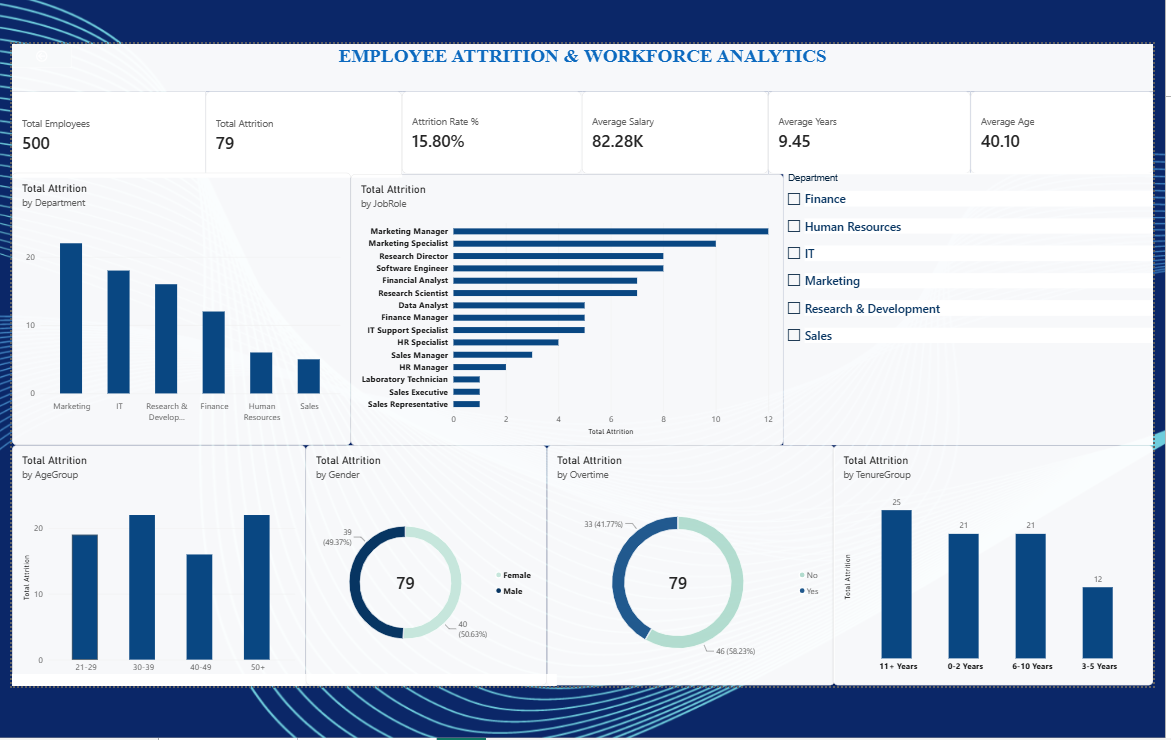

The page's visual inventory and layout, read from the dashboard file:
{"tool":"powerbi","page":{"name":"HR Overview","canvas":[1920,1080],"ordinal":0},"visuals":[{"type":"cardVisual","fields":{"Data":["HR_Data.Total Employees"]},"box":[0,79.9,326,145.1],"z":0},{"type":"cardVisual","fields":{"Data":["HR_Data.Total Attrition"]},"box":[326,79.9,330.2,145.1],"z":1000},{"type":"cardVisual","fields":{"Data":["HR_Data.Attrition Rate %"]},"box":[656.3,79.9,302.9,138.8],"z":2000},{"type":"cardVisual","fields":{"Data":["HR_Data.Average Salary"]},"box":[959.2,79.9,313.4,138.8],"z":3000},{"type":"cardVisual","fields":{"Data":["HR_Data.Average Age"]},"box":[1613.3,79.9,307.1,138.8],"z":4000},{"type":"cardVisual","fields":{"Data":["HR_Data.Average Years"]},"box":[1272.6,79.9,340.8,138.8],"z":5000},{"type":"clusteredColumnChart","fields":{"Category":["HR_Data.Department"],"Y":["HR_Data.Total Attrition"]},"box":[0,216.7,570,458.5],"z":6000},{"type":"barChart","fields":{"Category":["HR_Data.JobRole"],"Y":["HR_Data.Total Attrition"]},"box":[570,218.8,727.8,456.4],"z":7000},{"type":"donutChart","fields":{"Category":["HR_Data.Overtime"],"Y":["HR_Data.Total Attrition"]},"box":[900.3,675.2,483.8,403.9],"z":8000},{"type":"columnChart","fields":{"Category":["HR_Data.AgeGroup"],"Y":["HR_Data.Total Attrition"]},"box":[0,675.2,494.3,406],"z":9000},{"type":"slicer","fields":{"Values":["HR_Data.Department"]},"box":[1297.8,216.7,622.6,458.5],"z":10000},{"type":"actionButton","box":[0,0,100,40],"z":11000},{"type":"textbox","box":[0,1060.1,917.1,21],"z":12000},{"type":"textbox","box":[0,0,1920.4,79.9],"z":13000},{"type":"donutChart","fields":{"Category":["HR_Data.Gender"],"Y":["HR_Data.Total Attrition"]},"box":[494.3,675.2,406,403.9],"z":14000},{"type":"clusteredColumnChart","fields":{"Category":["HR_Data.TenureGroup"],"Y":["HR_Data.Total Attrition"]},"box":[1381.9,675.2,538.5,403.9],"z":15000}]}

Visuals, with their boxes on the page's 1920x1080 design canvas (x1, y1, x2, y2). These are canvas units, not pixel positions in the 1171x740 screenshot, which may show the page scaled, cropped or inside an application window:
cardVisual - HR_Data.Total Employees: detection(0, 80, 326, 225)
cardVisual - HR_Data.Total Attrition: detection(326, 80, 656, 225)
cardVisual - HR_Data.Attrition Rate %: detection(656, 80, 959, 219)
cardVisual - HR_Data.Average Salary: detection(959, 80, 1273, 219)
cardVisual - HR_Data.Average Age: detection(1613, 80, 1920, 219)
cardVisual - HR_Data.Average Years: detection(1273, 80, 1613, 219)
clusteredColumnChart - HR_Data.Department x HR_Data.Total Attrition: detection(0, 217, 570, 675)
barChart - HR_Data.JobRole x HR_Data.Total Attrition: detection(570, 219, 1298, 675)
donutChart - HR_Data.Overtime x HR_Data.Total Attrition: detection(900, 675, 1384, 1079)
columnChart - HR_Data.AgeGroup x HR_Data.Total Attrition: detection(0, 675, 494, 1081)
slicer - HR_Data.Department: detection(1298, 217, 1920, 675)
actionButton: detection(0, 0, 100, 40)
textbox: detection(0, 1060, 917, 1081)
textbox: detection(0, 0, 1920, 80)
donutChart - HR_Data.Gender x HR_Data.Total Attrition: detection(494, 675, 900, 1079)
clusteredColumnChart - HR_Data.TenureGroup x HR_Data.Total Attrition: detection(1382, 675, 1920, 1079)
